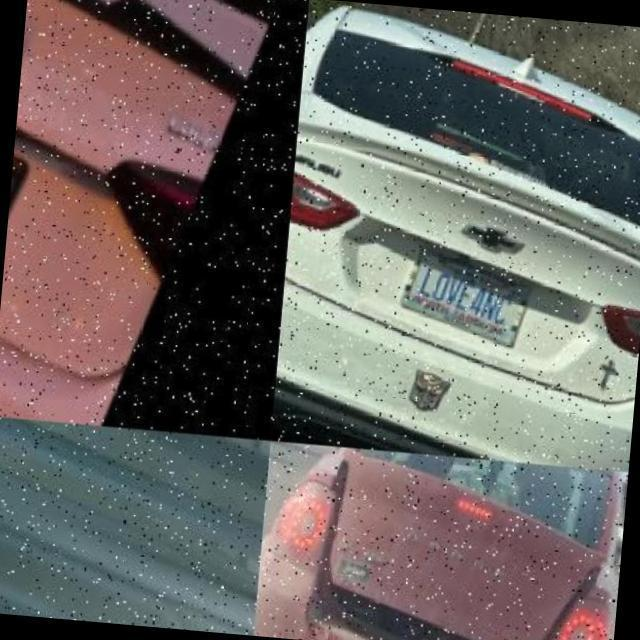license_plate: (3, 106, 96, 278), (402, 241, 538, 342), (101, 426, 246, 504)
